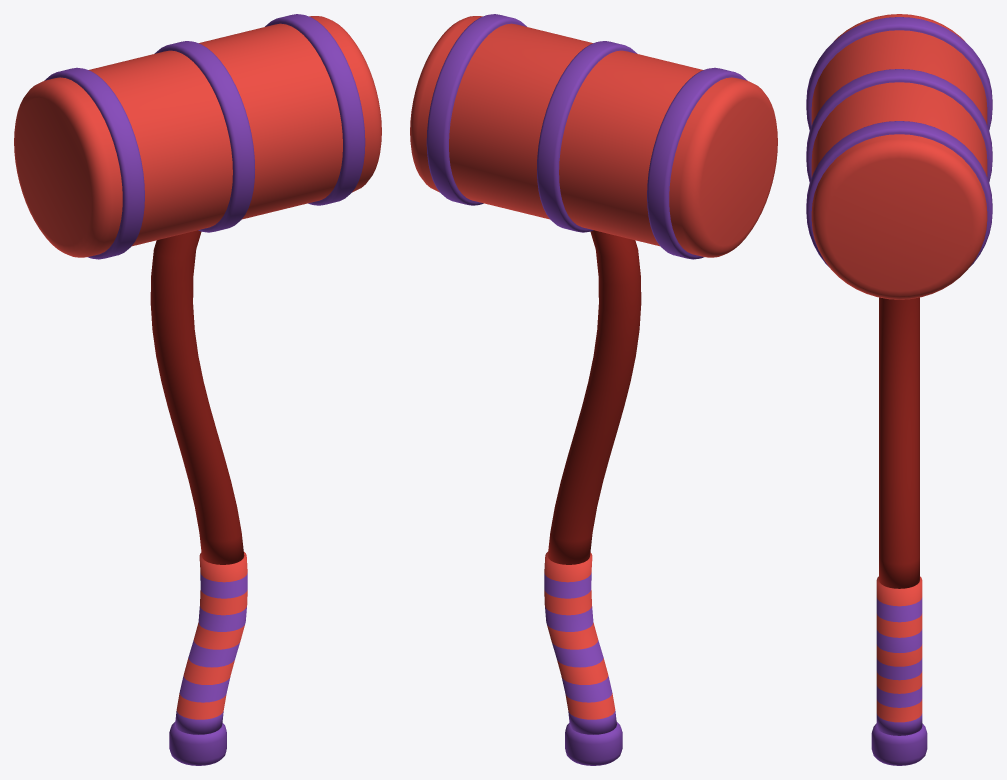
Rendered from hammer_hebidaru.fbx.
3 renders of one model, left to right at view 1: azimuth 30°, elevation 25°; view 2: azimuth 150°, elevation 25°; view 3: azimuth 270°, elevation 25°, orthographic. The views are drawn at different scales.
Visible parts, largest first — view 1: hebidaru_hammer; view 2: hebidaru_hammer; view 3: hebidaru_hammer.
Part boxes in pixels (x1,y1,x2,y2): hebidaru_hammer: (14,14,381,765); hebidaru_hammer: (410,14,777,765); hebidaru_hammer: (806,14,992,765).
Size of the model in its own units: 1.1 by 2.58 by 0.636.
